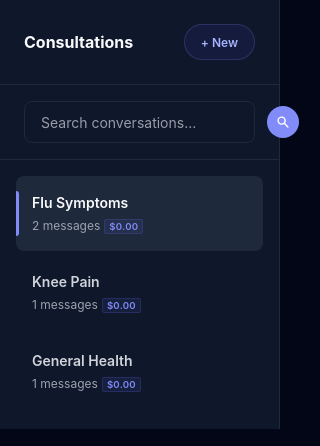
it: ConversationSidebar › filters conversations by message content
Type "diet" into the field with placeholder "Search conversations...".
click(150, 122); type("diet")  # box 33,110 -> 267,134
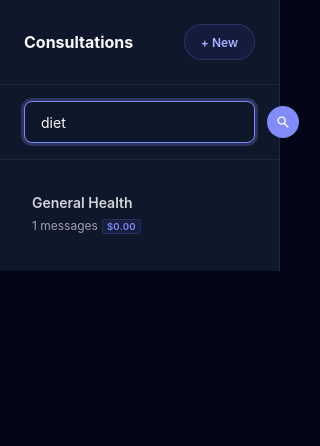
Expected: the text "General Health" is shown, 32,194 -> 133,211
Result: the button "Flu Symptoms" is gone
Result: the button "Knee Pain" is gone
